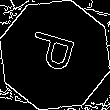P_E: (26, 30, 84, 80)
